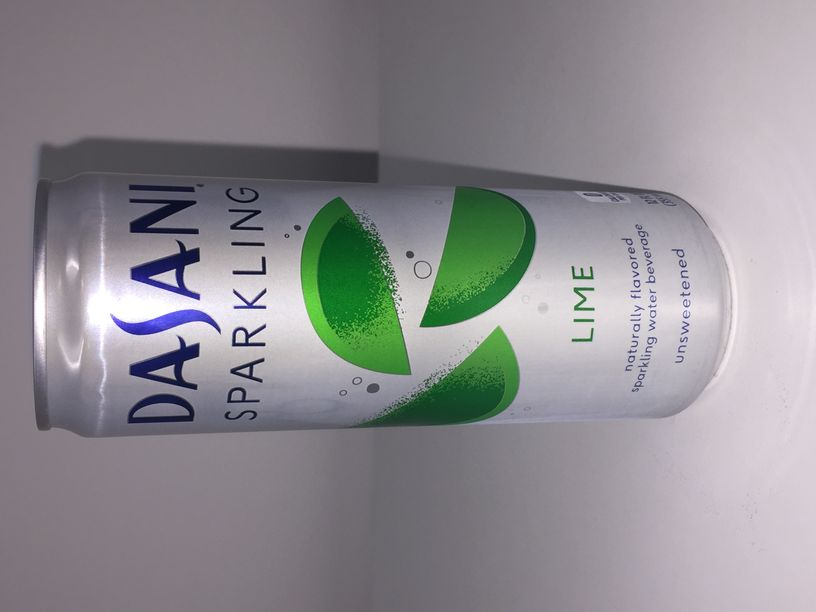lime: (31, 172, 733, 438)
